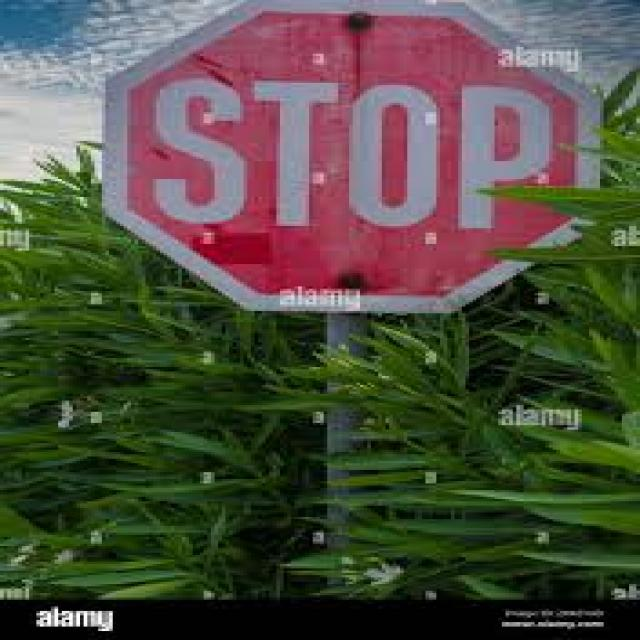stop-sign: (77, 31, 554, 318)
